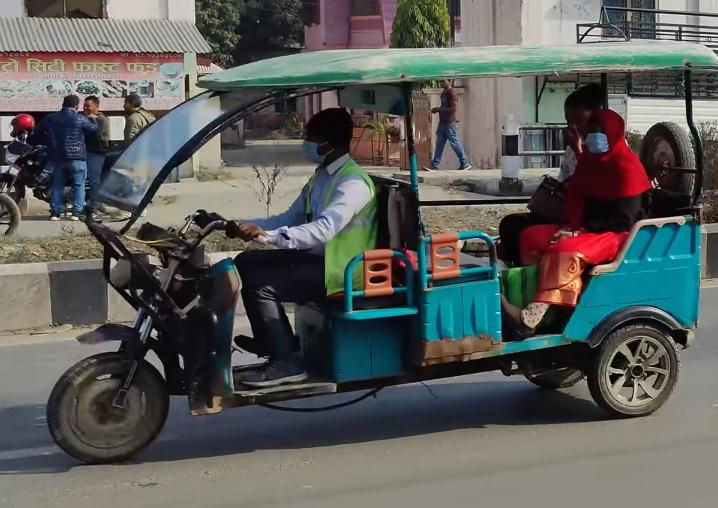e-rickshaw: (42, 32, 691, 471)
